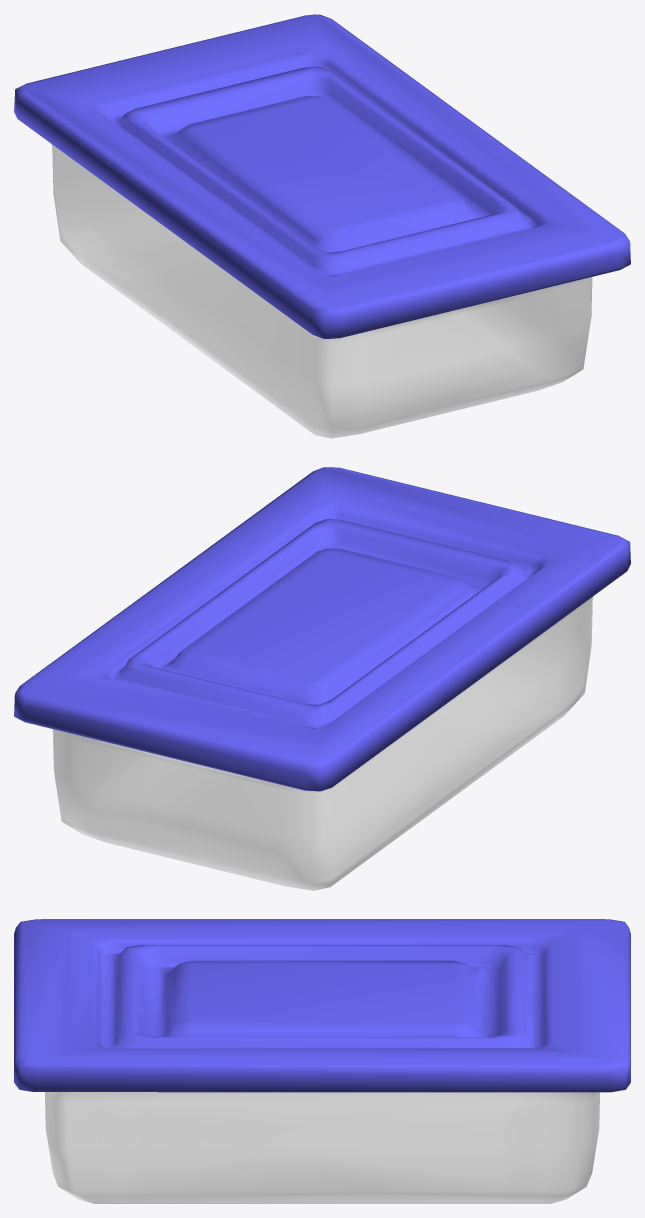
File: plastic_container.fbx
3 views of the same model, one above another, from view 1: azimuth 30°, elevation 25°; view 2: azimuth 150°, elevation 25°; view 3: azimuth 270°, elevation 25° (orthographic). The views are drawn at different scales.
Parts seen in each view (by area): view 1: pCube2, pCube1; view 2: pCube2, pCube1; view 3: pCube2, pCube1.
Boxes of the visible parts, x1,y1,x2,y2 form: pCube2: (14,14,630,338); pCube1: (52,144,592,438); pCube2: (14,467,630,791); pCube1: (52,596,593,890); pCube2: (14,919,630,1092); pCube1: (45,1092,599,1203).
Bounding box in the file's own units: 62.06 × 31.94 × 108.
